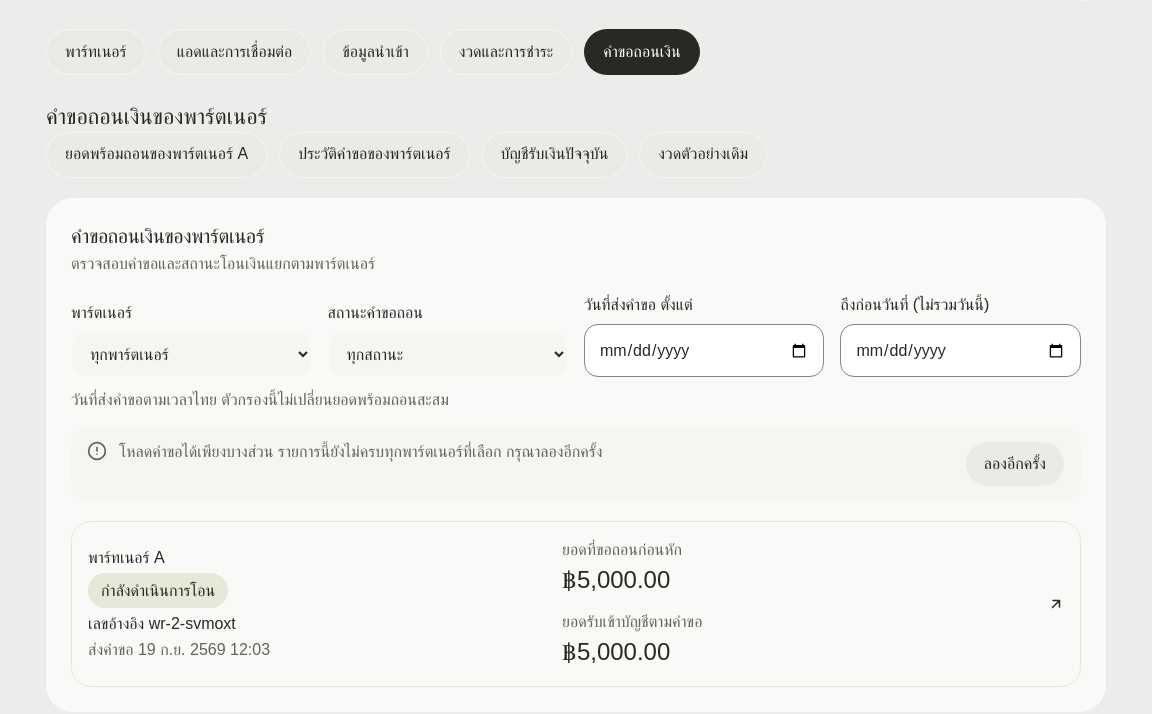
Test: WU03 real-runtime staff composition › shows an incomplete all-partner queue for a B outage but a valid A-only queue independently
(page scrolled)
Expected: the message shows "รายการนี้ยังไม่ครบ", [119,443,602,460]
Select "พาร์ทเนอร์ A" in the dropdown labelled "พาร์ตเนอร์" at (191, 354), box [71,331,312,377]
(page scrolled)
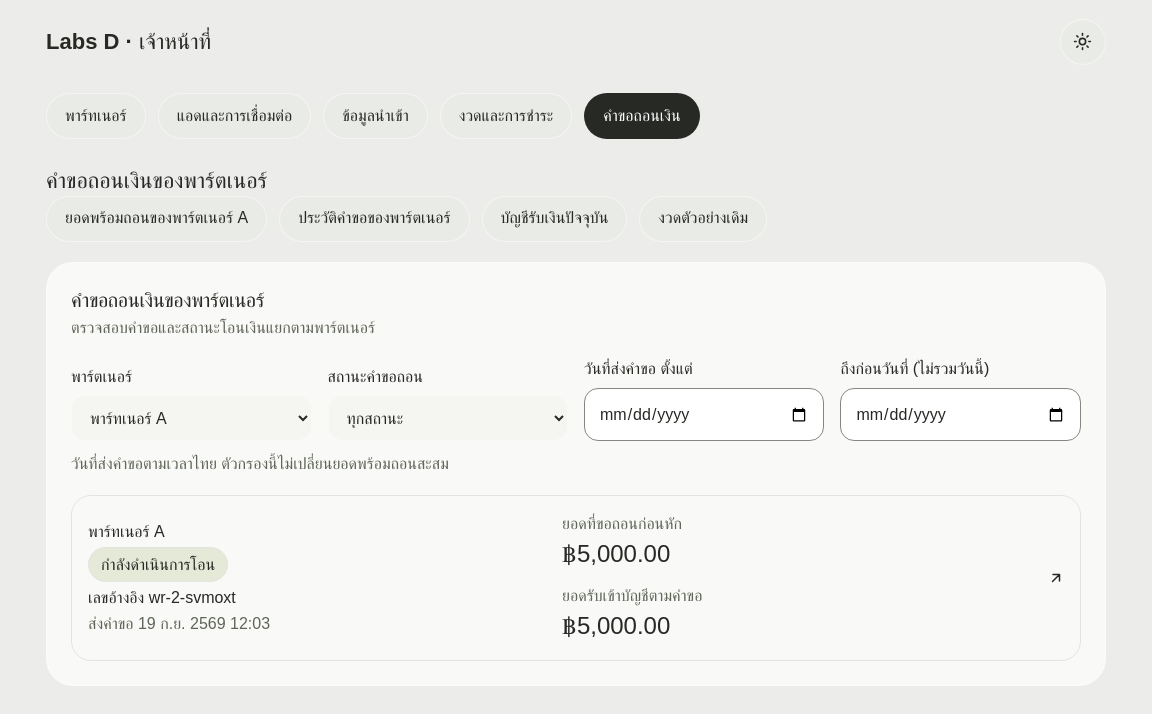
Expected: the list named "รายการคำขอถอนเงินของพาร์ตเนอร์" is shown, [71,495,1081,661]
Now the message is gone
